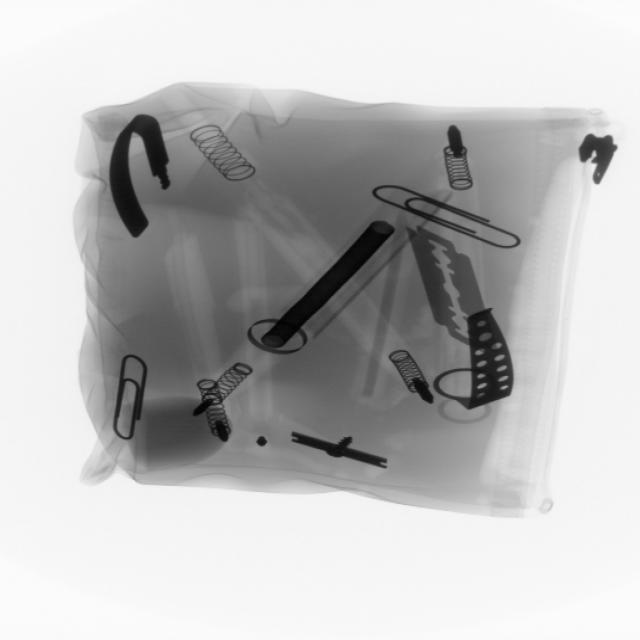BLADE: (408, 219, 491, 350)
